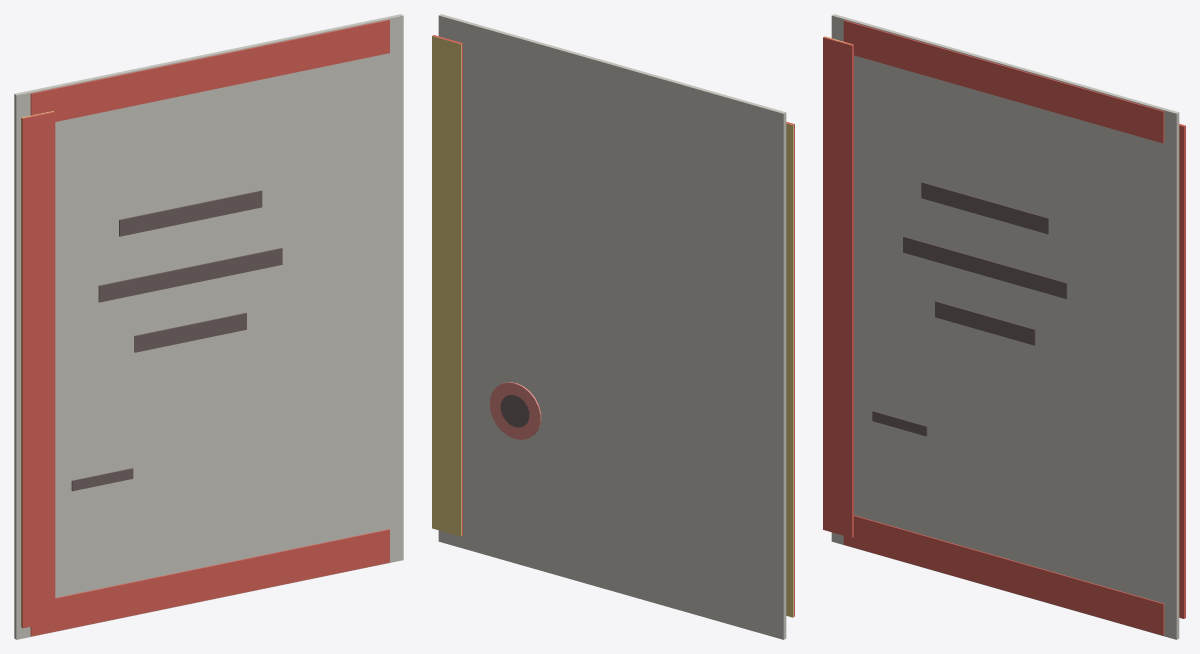
The model's file is item_72_award_certificate.glb.
3 views of the same model, side by side, from view 1: azimuth 30°, elevation 25°; view 2: azimuth 150°, elevation 25°; view 3: azimuth 330°, elevation 25° (orthographic). The views are drawn at different scales.
Parts seen in each view (by area): view 1: I72_Sheet, I72_B0V3, I72_B0H0, I72_B0H1, I72_Text1, I72_Text0, I72_Text2, I72_Date, I72_B1V3; view 2: I72_Sheet, I72_B1V2, I72_B1V3, I72_Seal, I72_SealIn, I72_B0V2; view 3: I72_Sheet, I72_B0V3, I72_B0H0, I72_B0H1, I72_B0V2, I72_Text1, I72_Text0, I72_Text2, I72_Date.
Boxes of the visible parts, box(x1,y1,x2,y2) form: I72_Sheet: box(14, 14, 403, 639); I72_B0V3: box(21, 111, 55, 628); I72_B0H0: box(30, 19, 389, 121); I72_B0H1: box(30, 529, 389, 636); I72_Text1: box(98, 248, 282, 302); I72_Text0: box(119, 190, 262, 236); I72_Text2: box(134, 312, 246, 352); I72_Date: box(71, 468, 133, 491); I72_B1V3: box(21, 111, 53, 627); I72_Sheet: box(438, 14, 786, 639); I72_B1V2: box(432, 36, 461, 536); I72_B1V3: box(786, 123, 793, 617); I72_Seal: box(490, 382, 541, 439); I72_SealIn: box(500, 395, 529, 427); I72_B0V2: box(432, 35, 462, 535); I72_Sheet: box(831, 14, 1179, 639); I72_B0V3: box(823, 36, 853, 537); I72_B0H0: box(843, 20, 1164, 143); I72_B0H1: box(843, 515, 1164, 635); I72_B0V2: box(1179, 124, 1185, 618); I72_Text1: box(903, 236, 1067, 298); I72_Text0: box(921, 182, 1048, 234); I72_Text2: box(935, 301, 1035, 345); I72_Date: box(872, 411, 927, 436).
Bounding box in the file's own units: 0.1911 × 0.265 × 0.0154.
